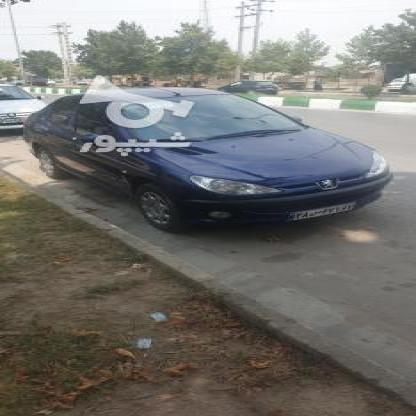licence: (286, 199, 356, 221)
